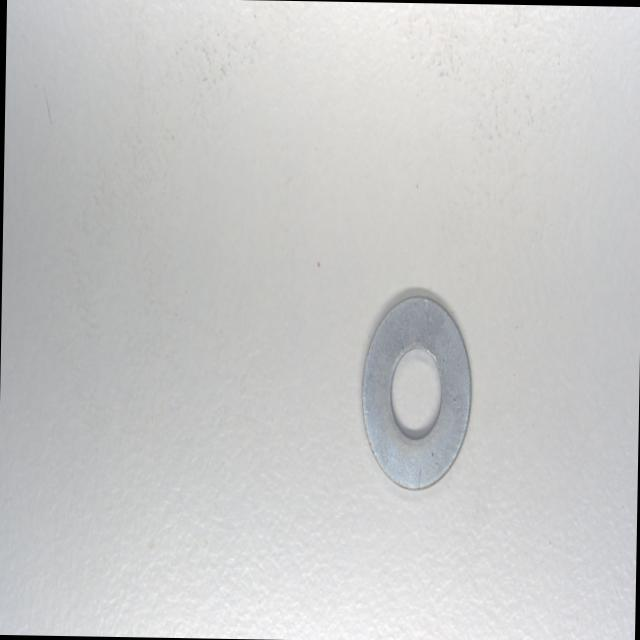washer: (357, 292, 472, 492)
